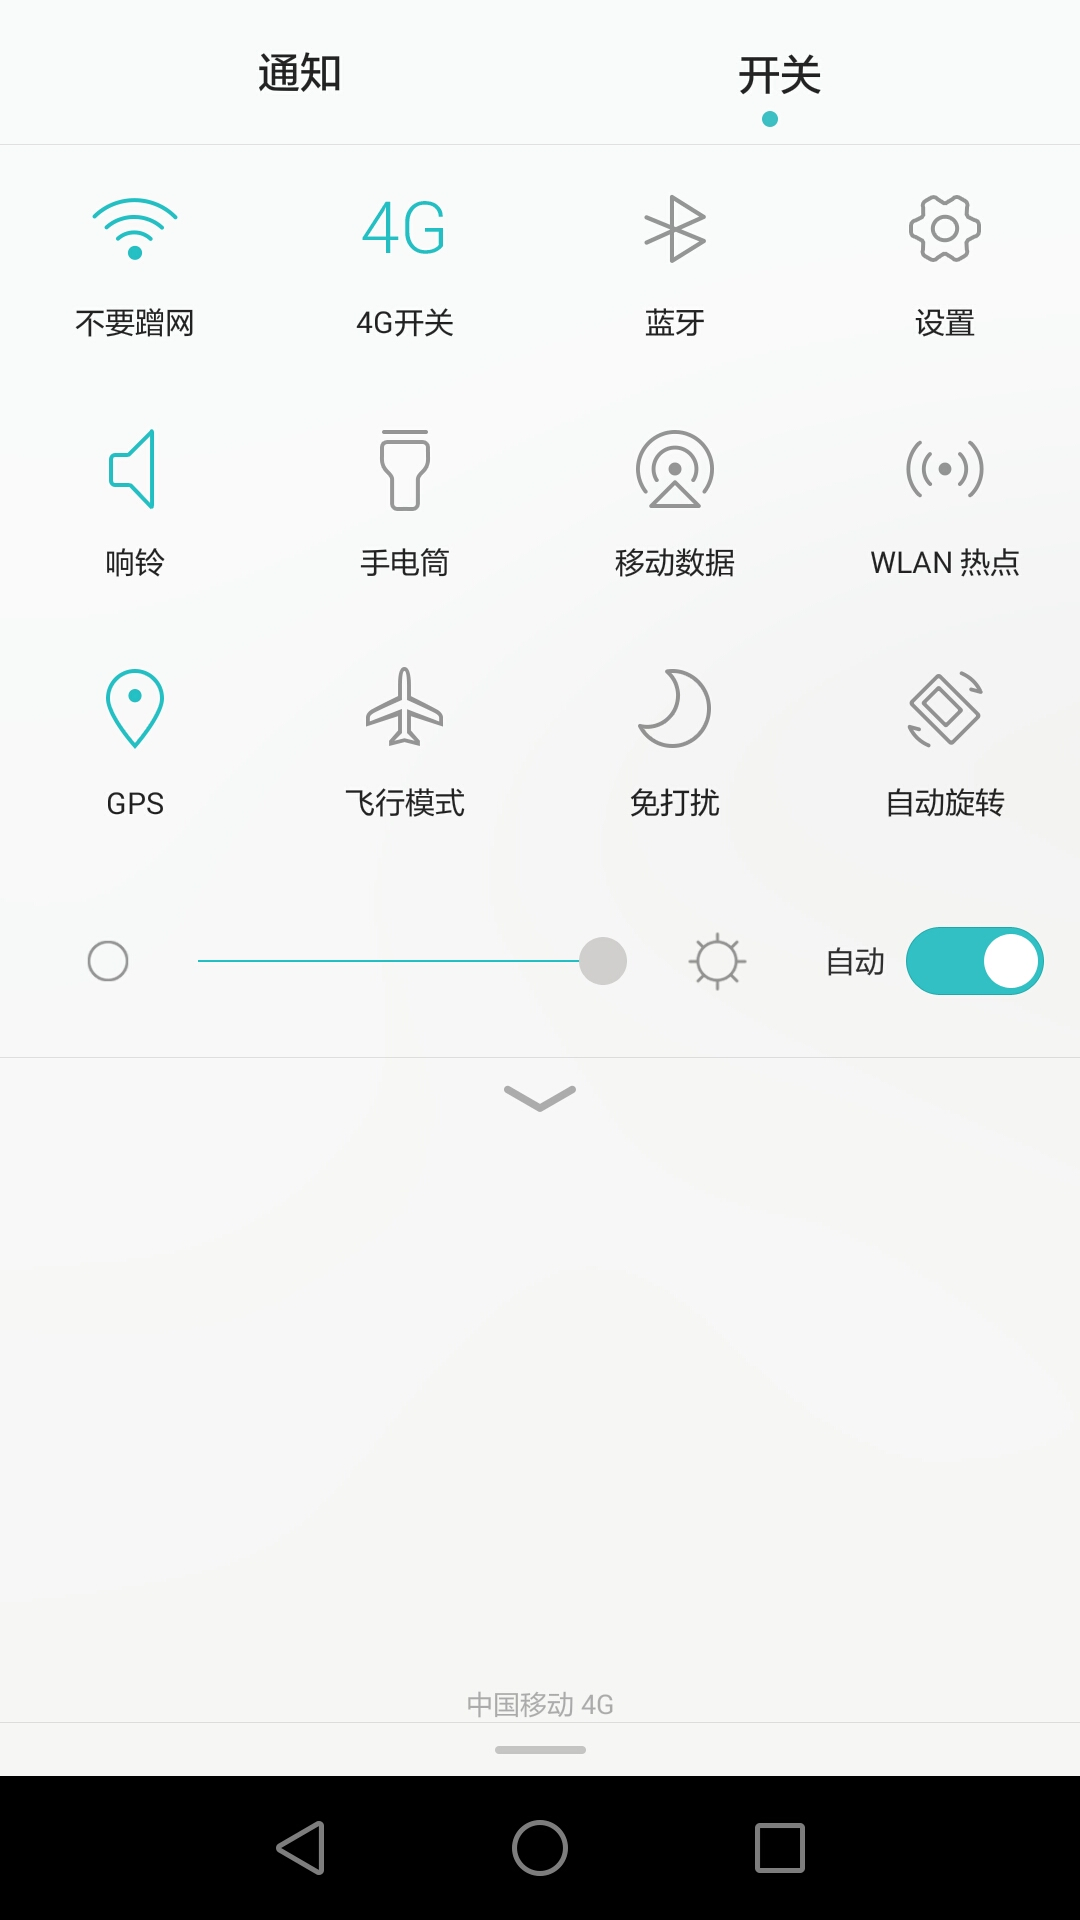imgbutton: (338, 178, 471, 301), (891, 170, 1014, 286), (872, 427, 1010, 521), (65, 193, 198, 287), (628, 189, 731, 305)
